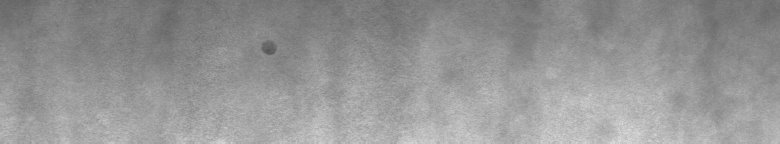fi: (260, 36, 280, 60)
